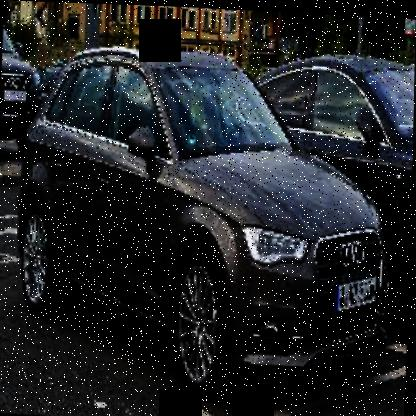not_emergency: (11, 40, 398, 379)
